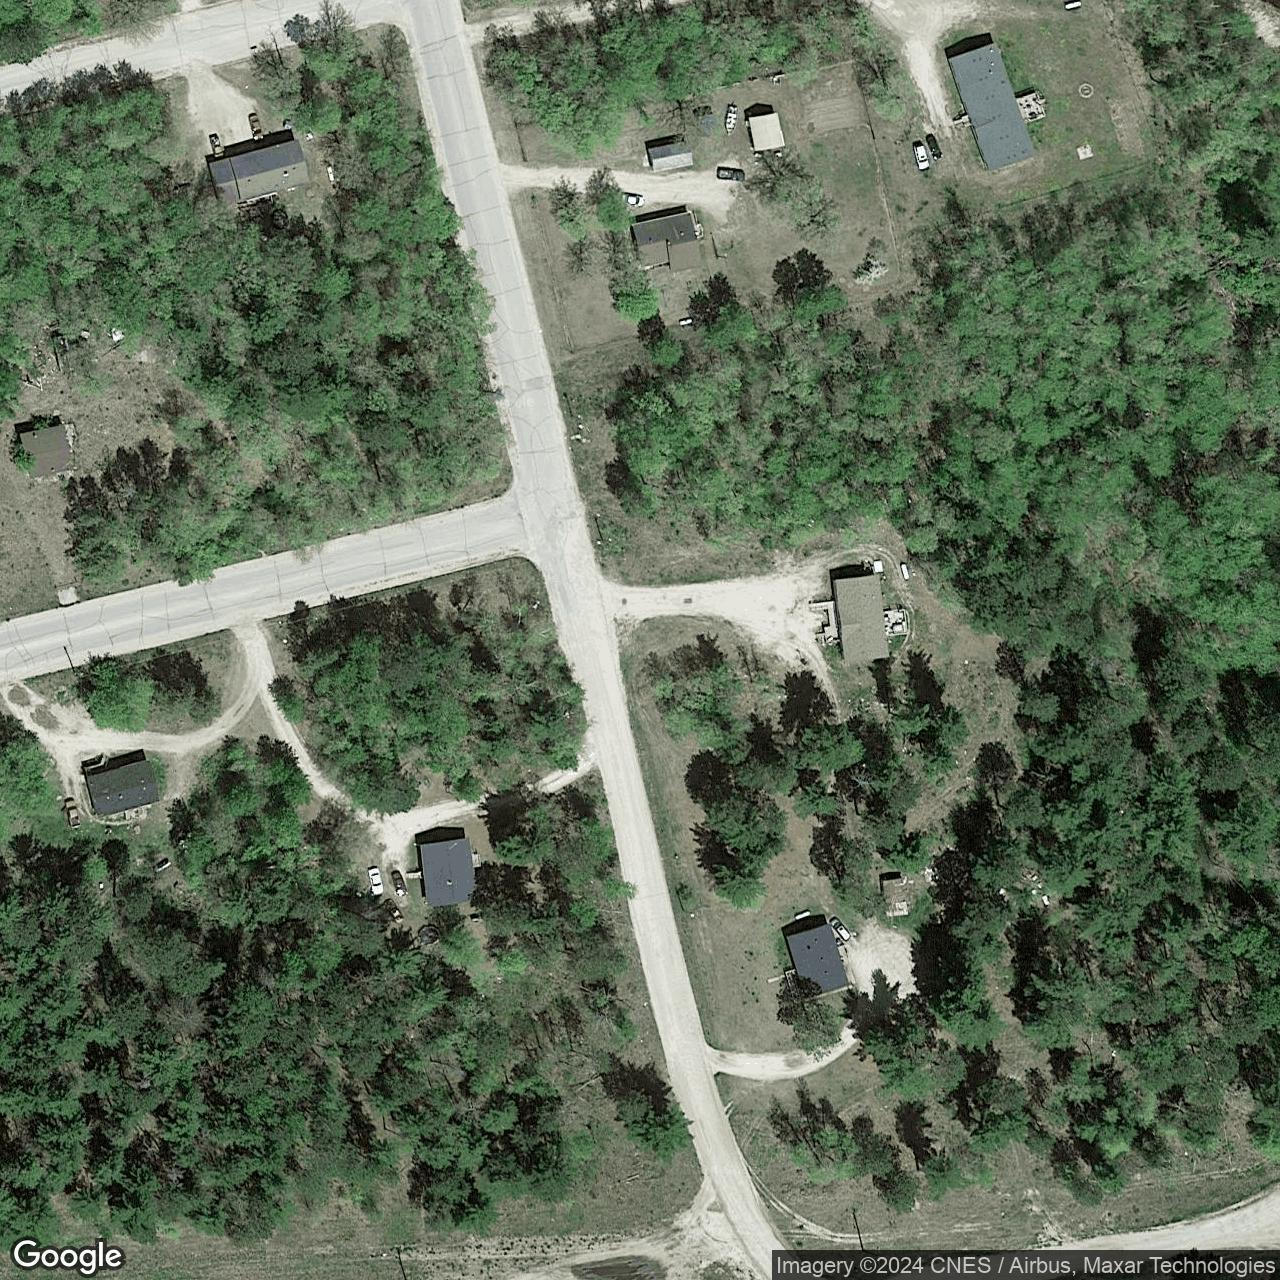Garage: (646, 139, 695, 173), (748, 111, 787, 152)
House: (947, 40, 1037, 172), (206, 136, 312, 210), (832, 571, 892, 662), (785, 921, 850, 1000), (631, 209, 704, 274), (83, 757, 162, 817), (421, 837, 478, 910), (18, 423, 72, 479)
Propane: (792, 907, 813, 921), (899, 560, 911, 581), (1063, 0, 1083, 12), (326, 164, 336, 184), (678, 315, 695, 327)
